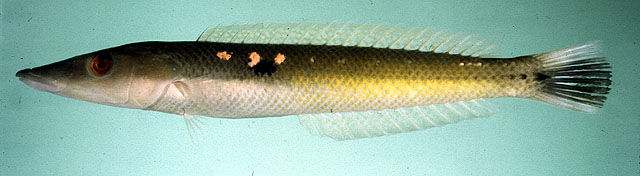fish: (14, 24, 613, 141)
